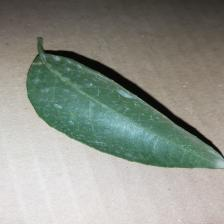healthy: (9, 40, 224, 189)
